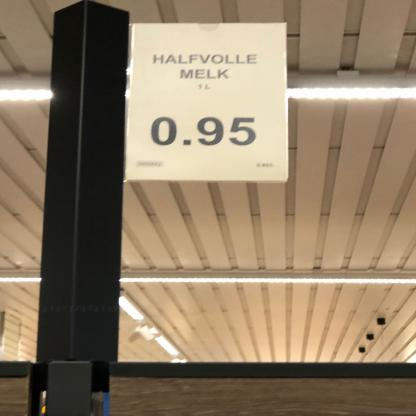prtg: (126, 23, 289, 183)
